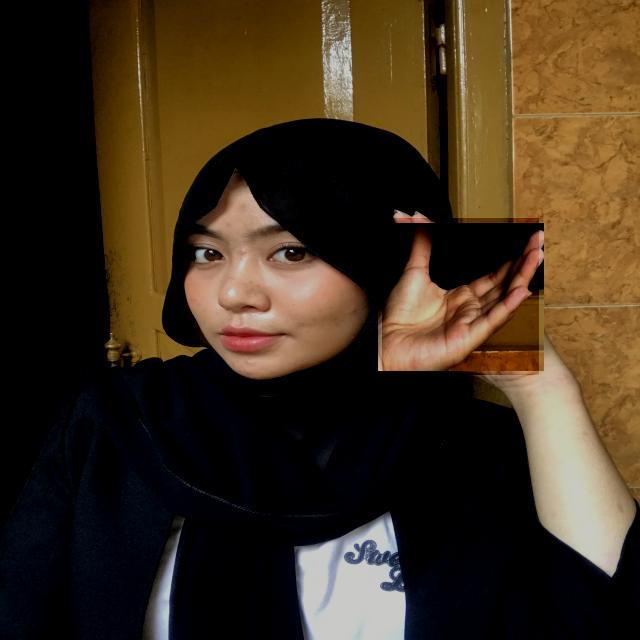mendengar: (382, 218, 539, 375)
